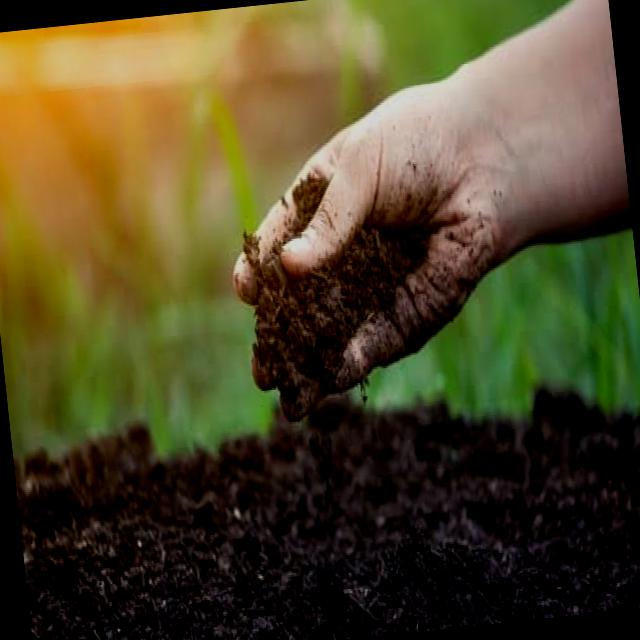suelo_humedo: (17, 228, 614, 634)
